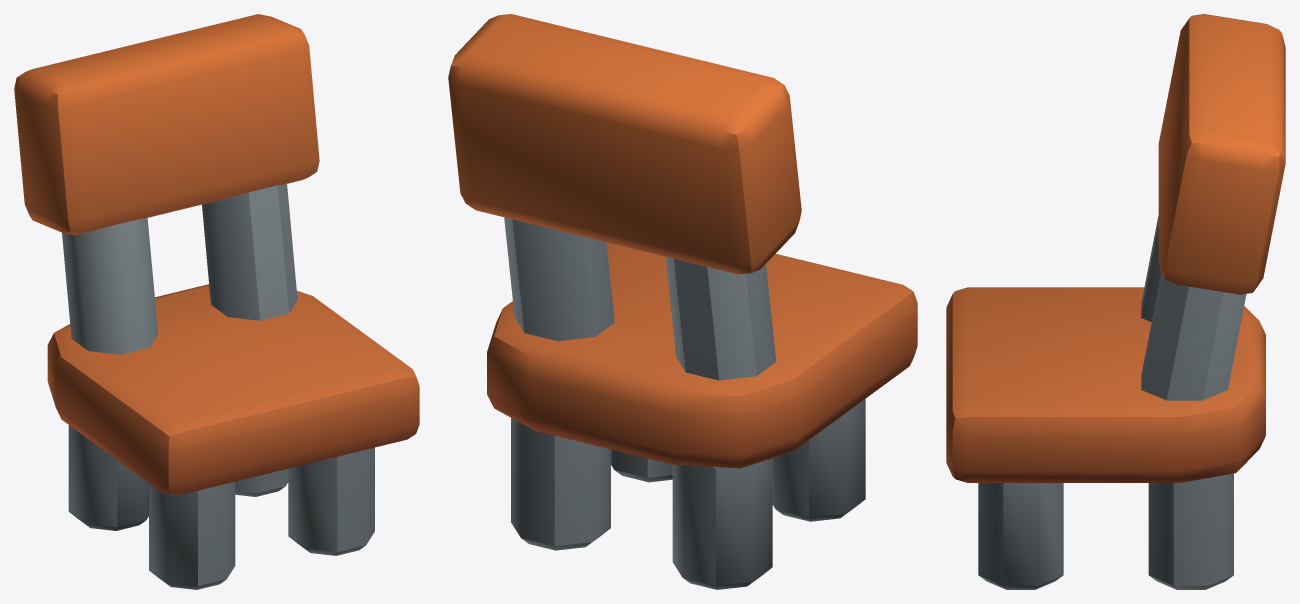
Rendered from kay-chair_a.glb.
The picture shows the model from 3 angles, left to right: view 1: azimuth 30°, elevation 25°; view 2: azimuth 150°, elevation 25°; view 3: azimuth 270°, elevation 25°; orthographic projection. The views are drawn at different scales.
Visible parts, largest first — view 1: chair_A; view 2: chair_A; view 3: chair_A.
Part boxes in pixels (x1=…): chair_A: x1=14, y1=14, x2=419, y2=589; chair_A: x1=448, y1=14, x2=917, y2=589; chair_A: x1=946, y1=14, x2=1285, y2=589.
Bounding box in the file's own units: 0.5898 × 0.95 × 0.6262.
Materials: 1 (1 with a texture image).
